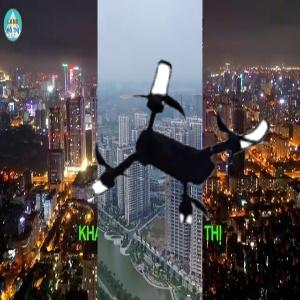drone: (82, 44, 275, 237)
